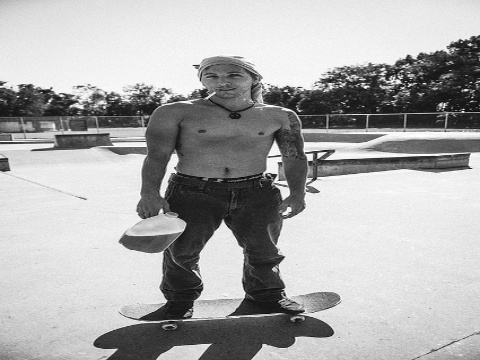hand: (278, 193, 306, 222)
